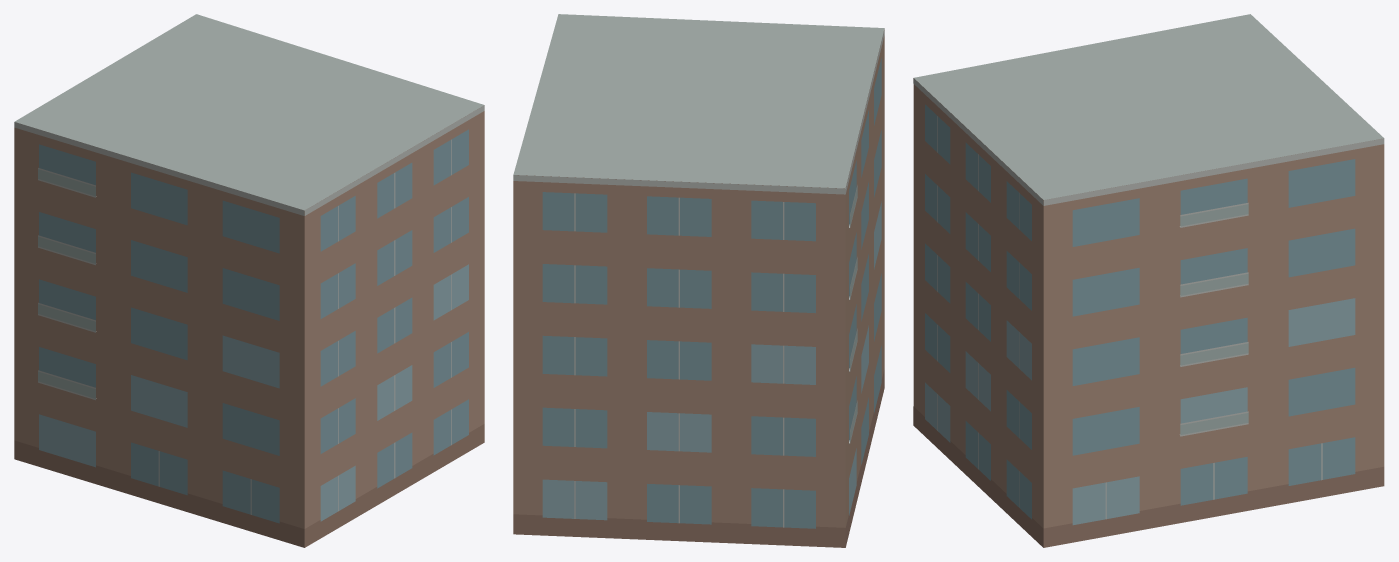
The model's file is survey-upis-32724174.glb.
3 renders of one model, left to right at view 1: azimuth 30°, elevation 25°; view 2: azimuth 150°, elevation 25°; view 3: azimuth 270°, elevation 25°, orthographic. The views are drawn at different scales.
Visible parts, largest first — view 1: survey-upis-32724174.tmp; view 2: survey-upis-32724174.tmp; view 3: survey-upis-32724174.tmp.
Boxes of the visible parts, <box> form: survey-upis-32724174.tmp: <box>14,14,484,547</box>; survey-upis-32724174.tmp: <box>513,14,884,547</box>; survey-upis-32724174.tmp: <box>913,14,1384,547</box>.
Bounding box in the file's own units: 16.59 × 14.45 × 17.74.
